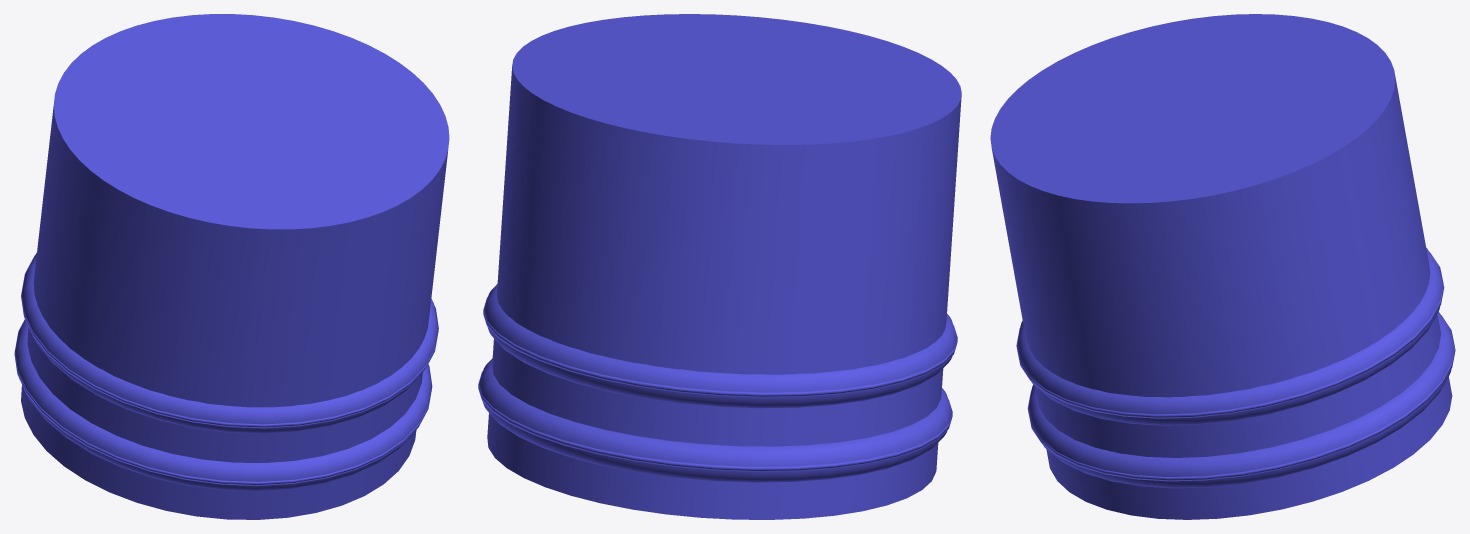
Rendered from bombilla195.obj.
3 renders of one model, left to right at view 1: azimuth 30°, elevation 25°; view 2: azimuth 150°, elevation 25°; view 3: azimuth 270°, elevation 25°, orthographic. The views are drawn at different scales.
Parts seen in each view (by area): view 1: Cylinder001, Cylinder004, Cylinder002, Cylinder003, Cylinder006; view 2: Cylinder001, Cylinder004, Cylinder003, Cylinder006, Cylinder002; view 3: Cylinder001, Cylinder004, Cylinder003, Cylinder002, Cylinder006.
Boxes of the visible parts, left/top/right/bottom form: Cylinder001: left=33, top=14, right=449, bottom=407; Cylinder004: left=14, top=319, right=432, bottom=491; Cylinder002: left=21, top=253, right=438, bottom=433; Cylinder003: left=27, top=327, right=422, bottom=462; Cylinder006: left=21, top=385, right=416, bottom=519; Cylinder001: left=496, top=14, right=961, bottom=374; Cylinder004: left=478, top=358, right=952, bottom=482; Cylinder003: left=492, top=339, right=943, bottom=446; Cylinder006: left=487, top=413, right=938, bottom=519; Cylinder002: left=483, top=284, right=957, bottom=408; Cylinder001: left=990, top=14, right=1430, bottom=397; Cylinder004: left=1027, top=312, right=1455, bottom=488; Cylinder003: left=1035, top=314, right=1440, bottom=457; Cylinder002: left=1016, top=248, right=1444, bottom=425; Cylinder006: left=1046, top=376, right=1452, bottom=519.
Bounding box in the file's own units: 72.45 × 69.78 × 77.63.
